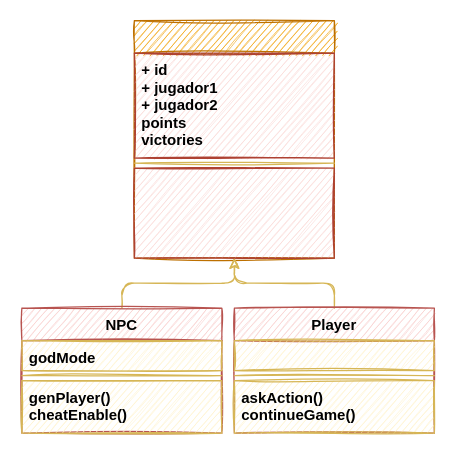
Image size: 455x455. Some labels were removed from this diagram. Each missing label, with the box of its shape:
addPoint() addWin() stats() solveWinner(): (133, 167, 334, 258)
Game: (133, 19, 334, 258)
name: (233, 339, 434, 371)
